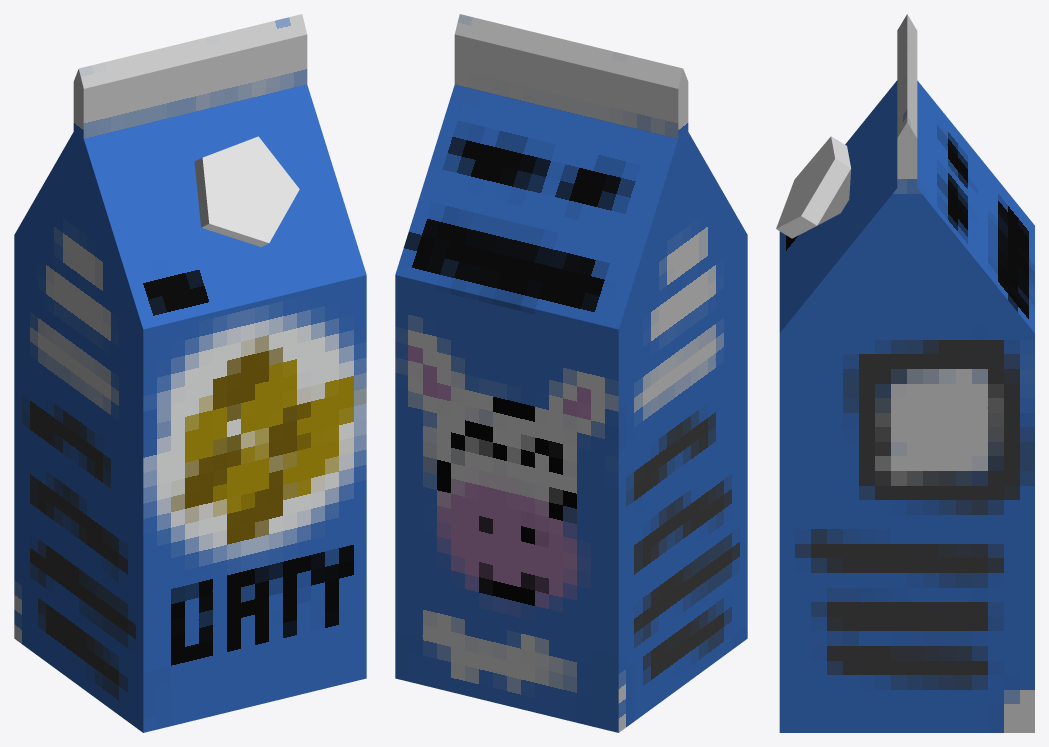
File: Oat_Milk.fbx
3 renders of one model, left to right at view 1: azimuth 30°, elevation 25°; view 2: azimuth 150°, elevation 25°; view 3: azimuth 270°, elevation 25°, orthographic.
Visible parts, largest first — view 1: MilkOat, CapOat; view 2: MilkOat; view 3: MilkOat, CapOat.
Part boxes in pixels (x1,y1,x2,y2): MilkOat: (14,14,366,732); CapOat: (194,136,299,246); MilkOat: (395,14,747,732); MilkOat: (779,14,1034,732); CapOat: (776,136,851,238).
Bounding box in the file's own units: 30 × 79.17 × 30.41.
